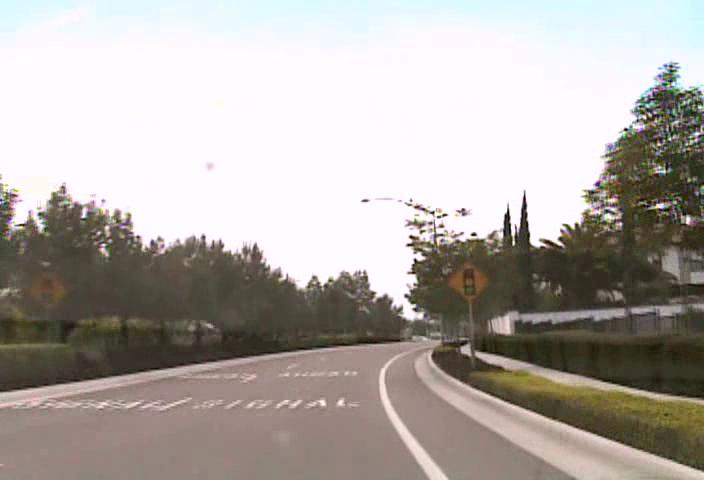signalAhead: (27, 270, 66, 310)
